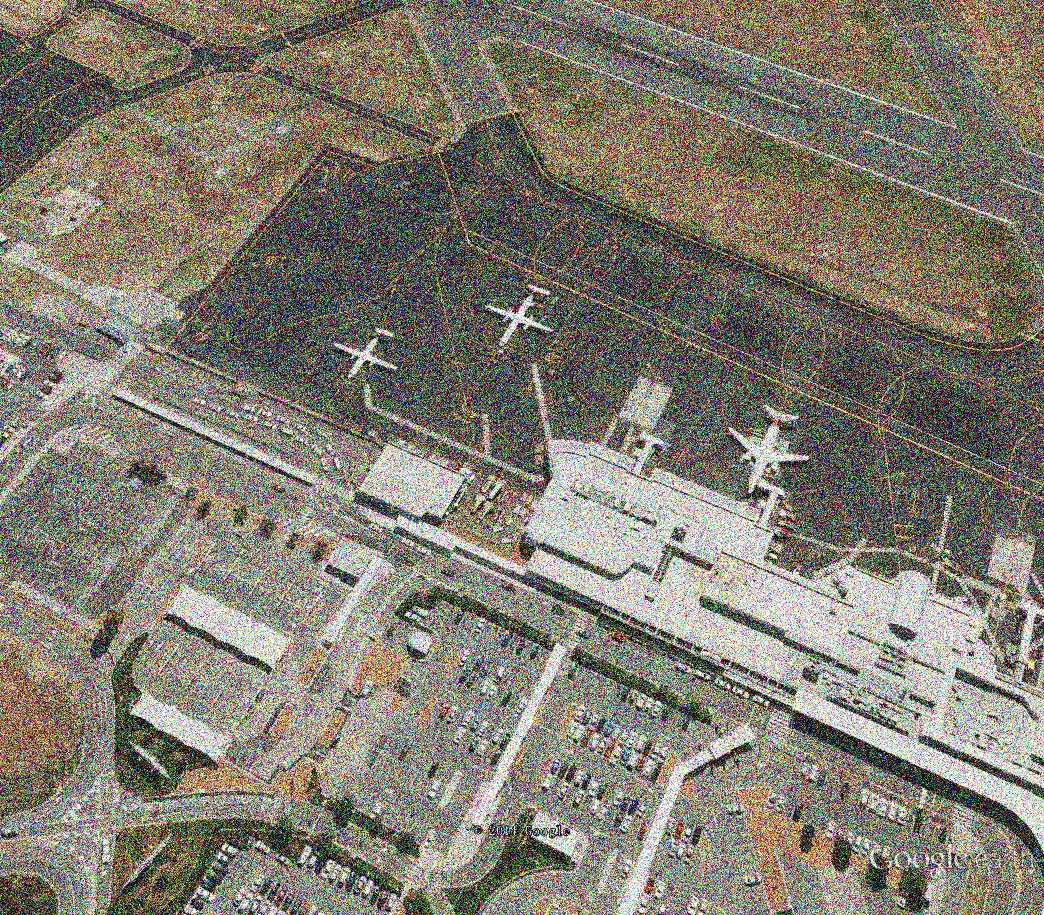aircraft: (723, 400, 816, 504), (480, 280, 561, 354), (328, 324, 406, 381)
